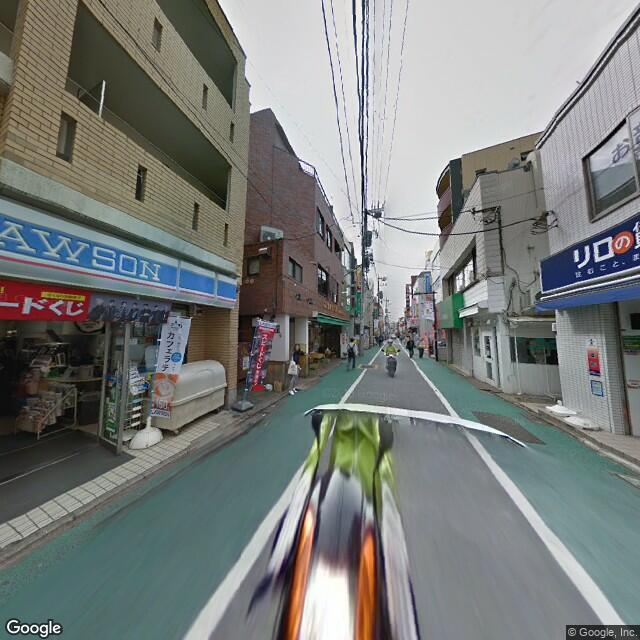lawson: (1, 192, 237, 313)
